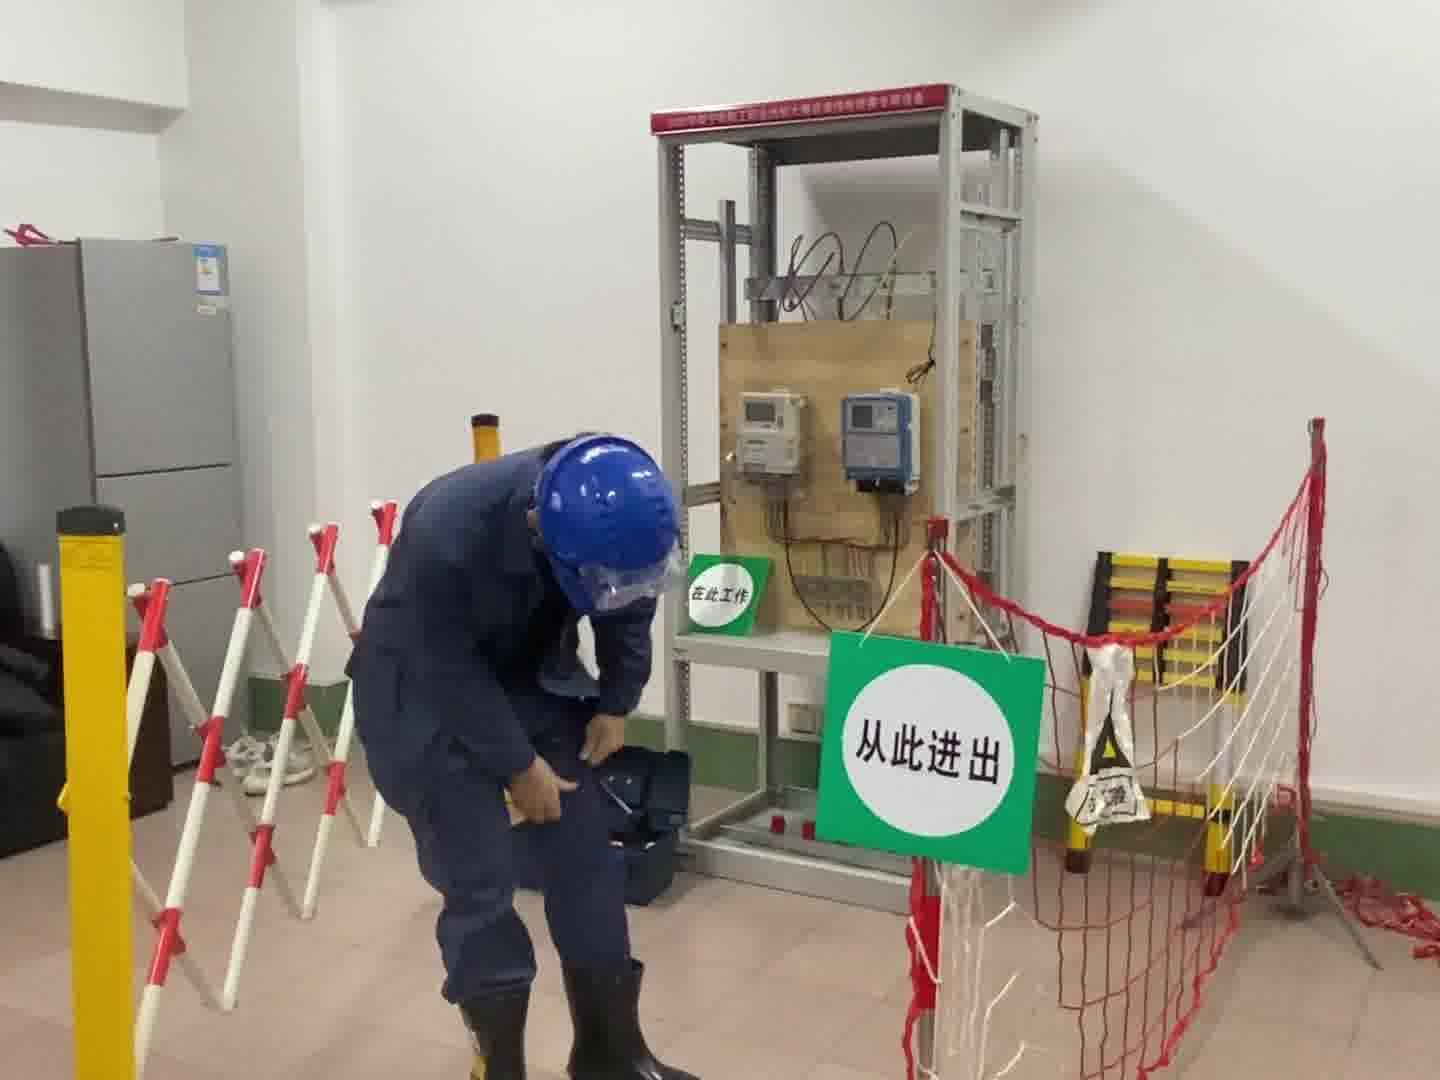downsuit: (375, 750, 658, 994)
halt: (523, 434, 682, 624)
hand: (510, 754, 577, 823), (581, 705, 627, 770)
intosign: (810, 620, 1059, 890)
person: (340, 417, 699, 1080)
shoe: (463, 958, 689, 1080)
upsuit: (348, 436, 663, 813)
worksign: (681, 547, 773, 643)
